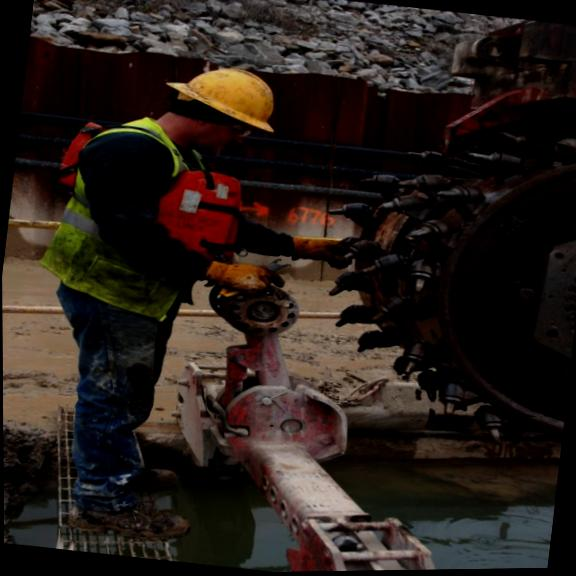safety_vest: (47, 99, 232, 351)
